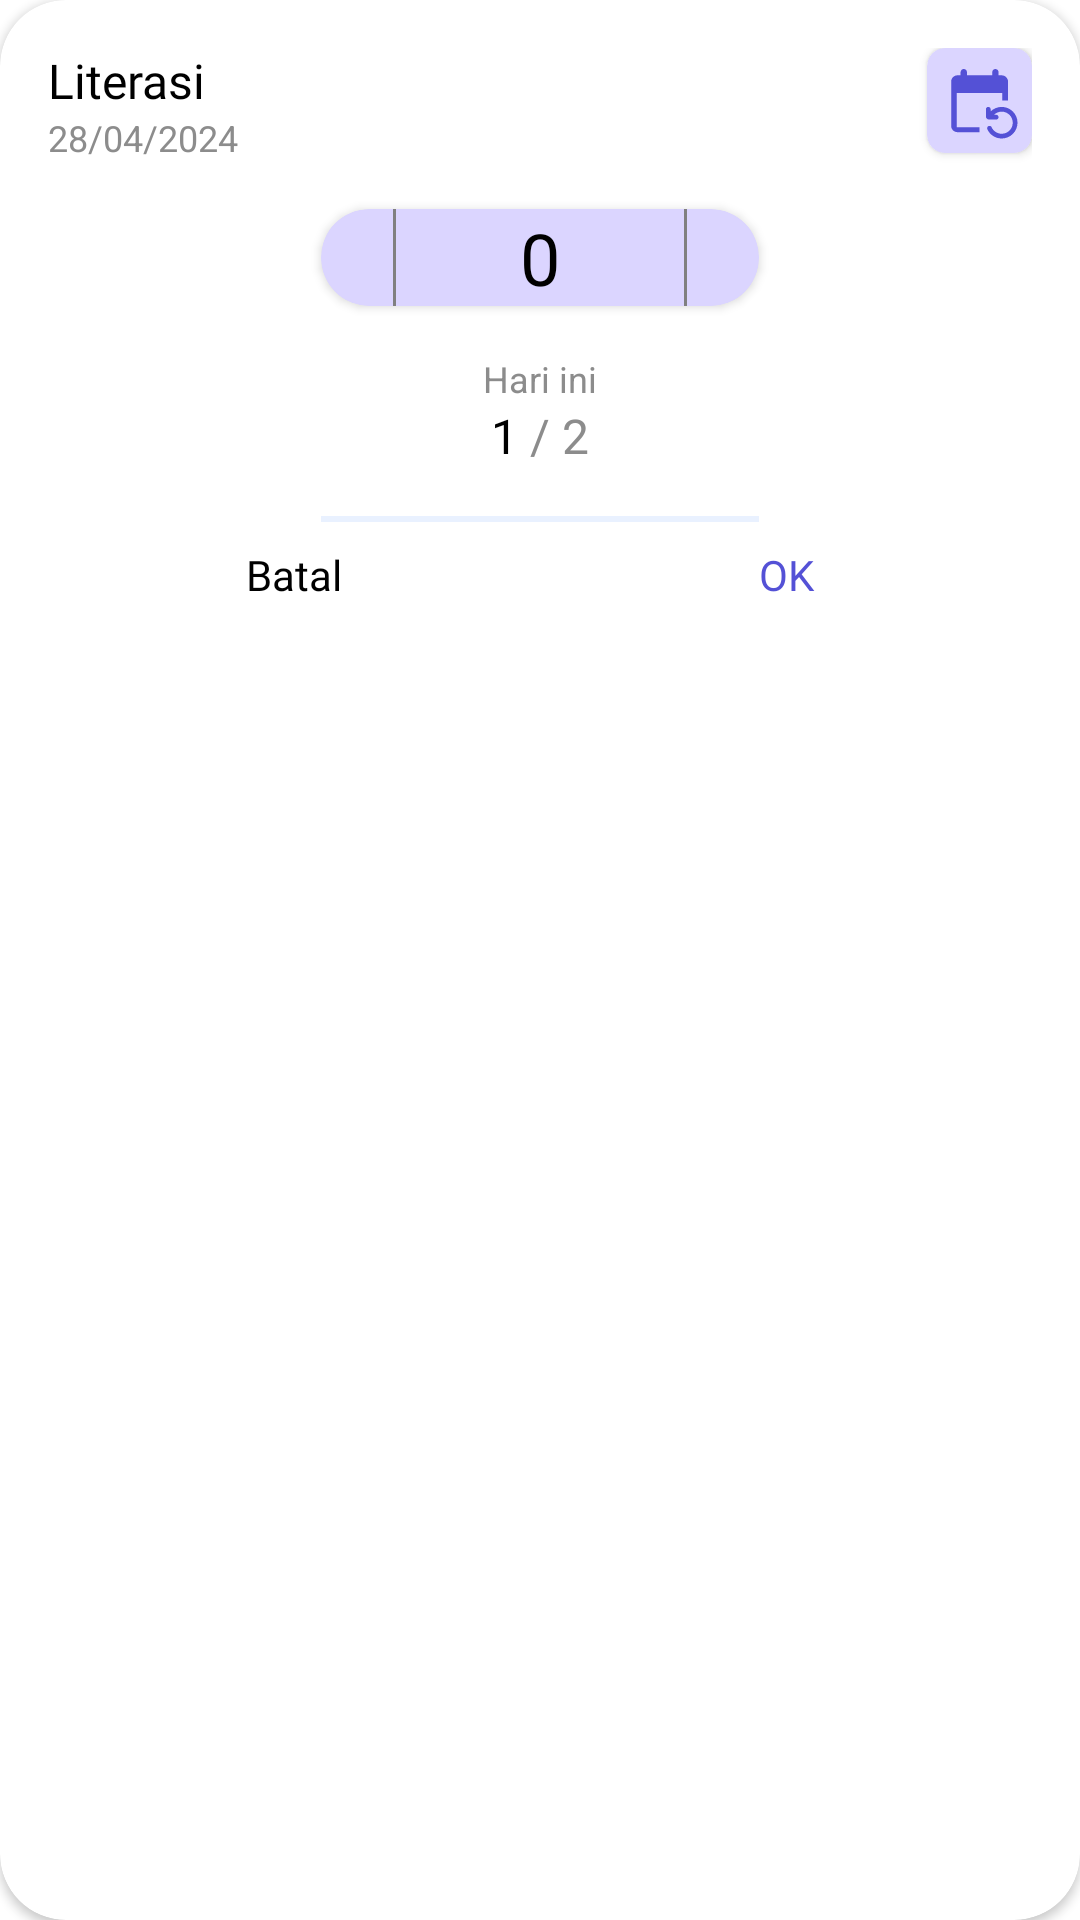

Screen size 1080*1920. Icon name, then its box in pixels as (x1, y1, x2, y2):
Icon Calendar: (951, 69, 1018, 139)
